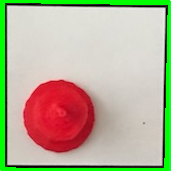Red Queen: (19, 76, 98, 157)
